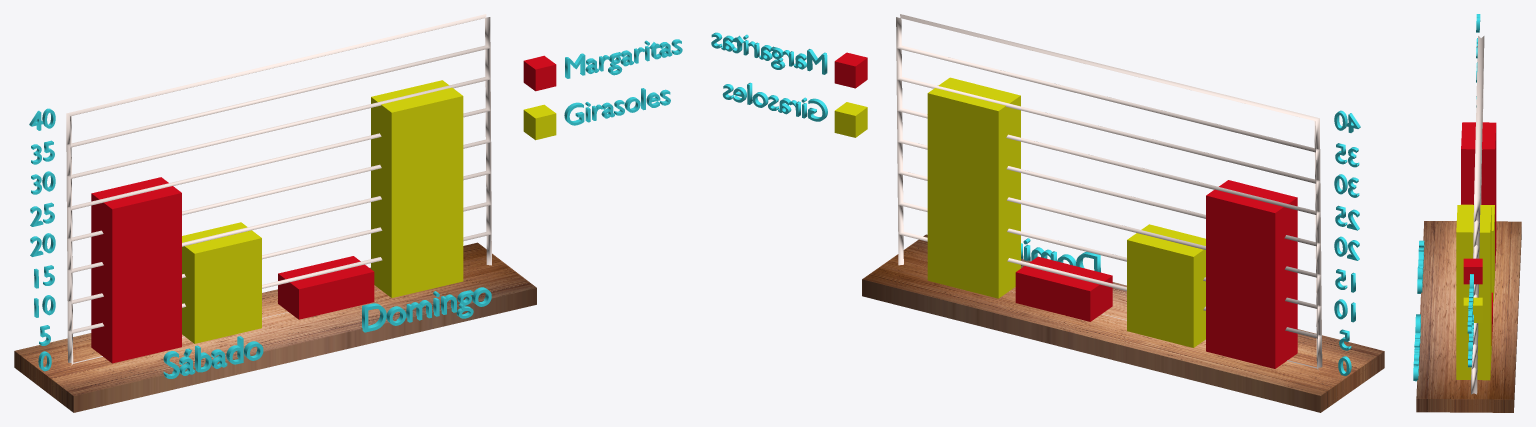
File: barras.glb
3 renders of one model, left to right at view 1: azimuth 30°, elevation 25°; view 2: azimuth 150°, elevation 25°; view 3: azimuth 270°, elevation 25°, orthographic. The views are drawn at different scales.
Visible parts, largest first — view 1: Plane.001, Cube.004, Cube.001, Plane, Cube.002, Cube.003, Text.010, Text.009, Text.011, Text.012, Cube.005, Cube.006; view 2: Plane.001, Cube.004, Cube.001, Plane, Cube.002, Cube.003, Text.011, Text.012, Cube.006, Cube.005, Text.010; view 3: Plane.001, Cube.004, Cube.001, Plane, Cube.005, Text.010, Cube.006, Cube.002, Text.009, Text.011, Text.012.
Boxes of the visible parts, box(x1,y1,x2,y2) form: Plane.001: box(14, 242, 536, 412); Cube.004: box(371, 80, 463, 297); Cube.001: box(91, 177, 181, 363); Plane: box(66, 14, 491, 365); Cube.002: box(182, 222, 261, 343); Cube.003: box(278, 256, 374, 319); Text.010: box(362, 287, 491, 332); Text.009: box(163, 336, 263, 378); Text.011: box(565, 39, 682, 78); Text.012: box(564, 88, 670, 125); Cube.005: box(523, 55, 556, 91); Cube.006: box(523, 104, 556, 140); Plane.001: box(862, 234, 1384, 412); Cube.004: box(927, 77, 1020, 298); Cube.001: box(1206, 180, 1297, 368); Plane: box(896, 14, 1322, 369); Cube.002: box(1127, 224, 1205, 347); Cube.003: box(1015, 256, 1112, 321); Text.011: box(711, 32, 827, 74); Text.012: box(722, 82, 827, 121); Cube.006: box(834, 102, 867, 137); Cube.005: box(834, 52, 867, 88); Text.010: box(1021, 238, 1100, 272); Plane.001: box(1416, 221, 1521, 412); Cube.004: box(1456, 205, 1491, 380); Cube.001: box(1461, 122, 1496, 270); Plane: box(1471, 36, 1484, 394); Cube.005: box(1463, 258, 1482, 284); Text.010: box(1413, 314, 1420, 381); Cube.006: box(1463, 297, 1482, 322); Cube.002: box(1461, 204, 1494, 302); Text.009: box(1417, 240, 1424, 293); Text.011: box(1467, 274, 1473, 333); Text.012: box(1468, 314, 1473, 367).
Size of the model in its own units: 6.91 by 2.83 by 1.26.
Materials: 5 (1 with a texture image).
